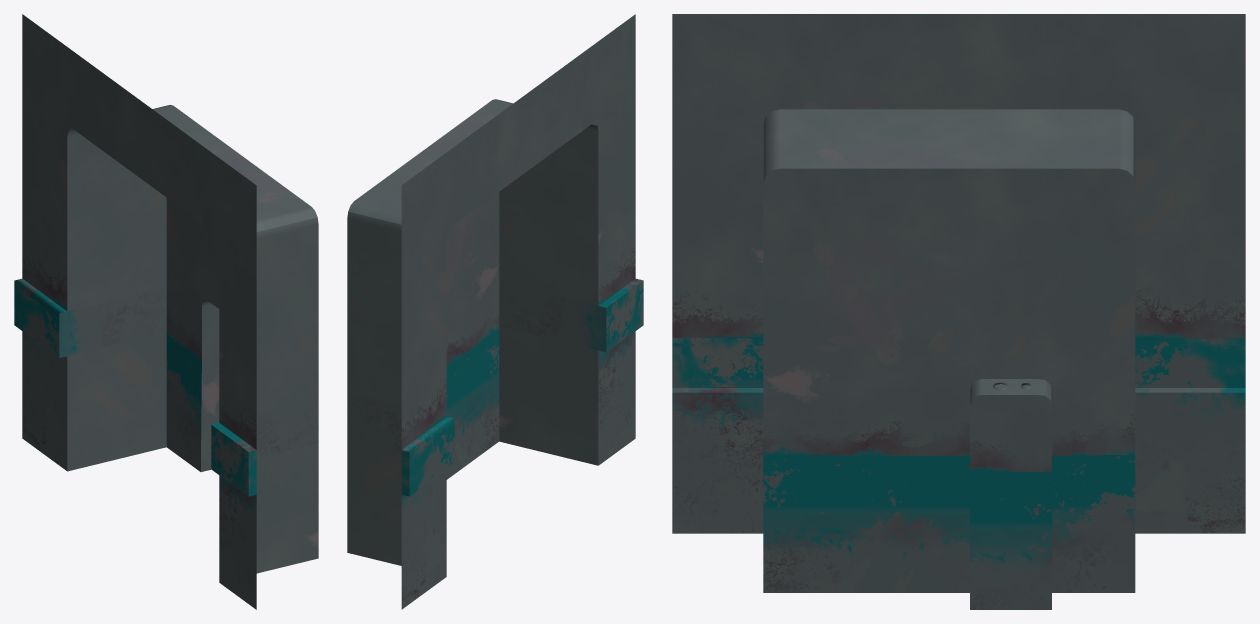
The model's file is Wall_Niche_Tileset.fbx.
3 renders of one model, left to right at view 1: azimuth 30°, elevation 25°; view 2: azimuth 150°, elevation 25°; view 3: azimuth 270°, elevation 25°, orthographic. The views are drawn at different scales.
Visible parts, largest first — view 1: Wall_Niche; view 2: Wall_Niche; view 3: Wall_Niche.
Boxes of the visible parts, left/top/right/bottom form: Wall_Niche: left=14, top=14, right=318, bottom=609; Wall_Niche: left=347, top=14, right=643, bottom=609; Wall_Niche: left=672, top=14, right=1245, bottom=609.
Bounding box in the file's own units: 84.92 × 254 × 254.
